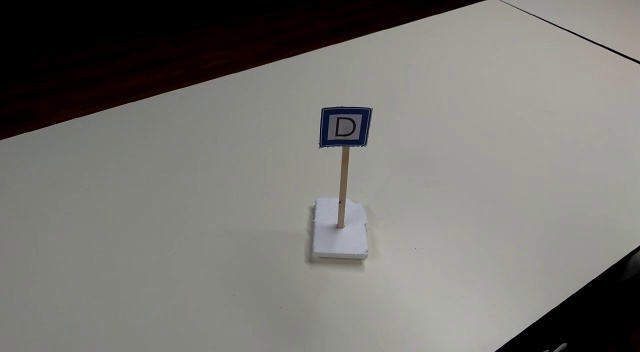durak: (319, 106, 370, 149)
